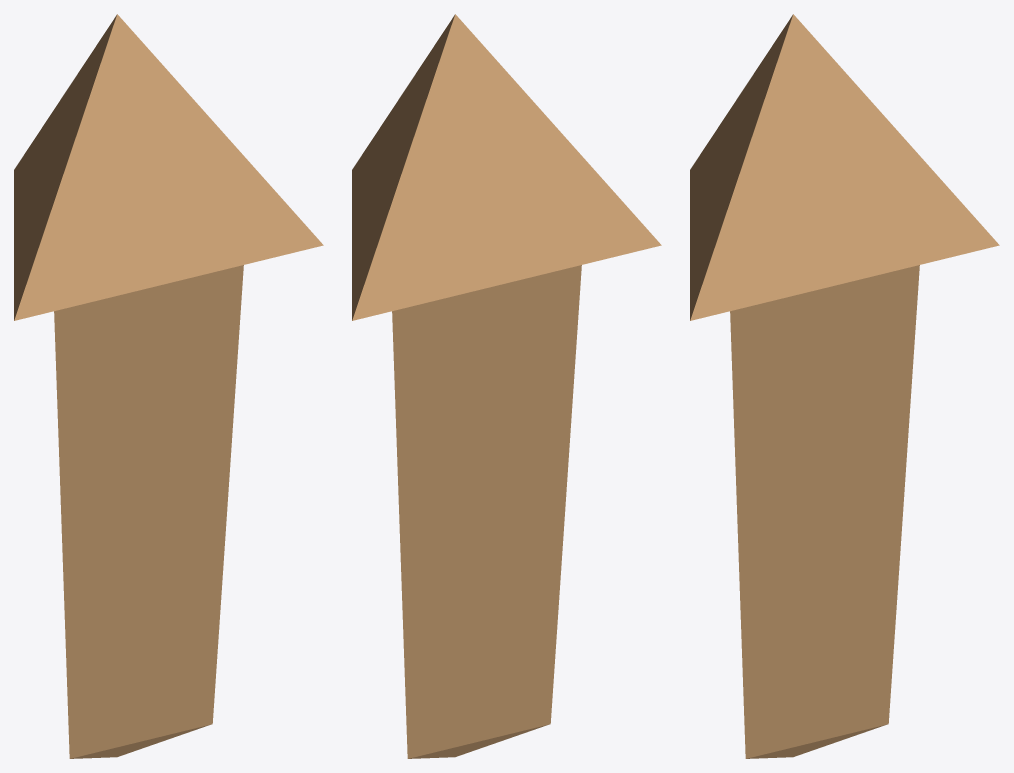
The model's file is GeoNerd_Arrow.fbx.
3 renders of one model, left to right at view 1: azimuth 30°, elevation 25°; view 2: azimuth 150°, elevation 25°; view 3: azimuth 270°, elevation 25°, orthographic.
Visible parts, largest first — view 1: Cylinder; view 2: Cylinder; view 3: Cylinder.
Part boxes in pixels (x1=…): Cylinder: x1=14, y1=14, x2=323, y2=758; Cylinder: x1=352, y1=14, x2=661, y2=758; Cylinder: x1=690, y1=14, x2=999, y2=758.
Bounding box in the file's own units: 280 × 642 × 243.
